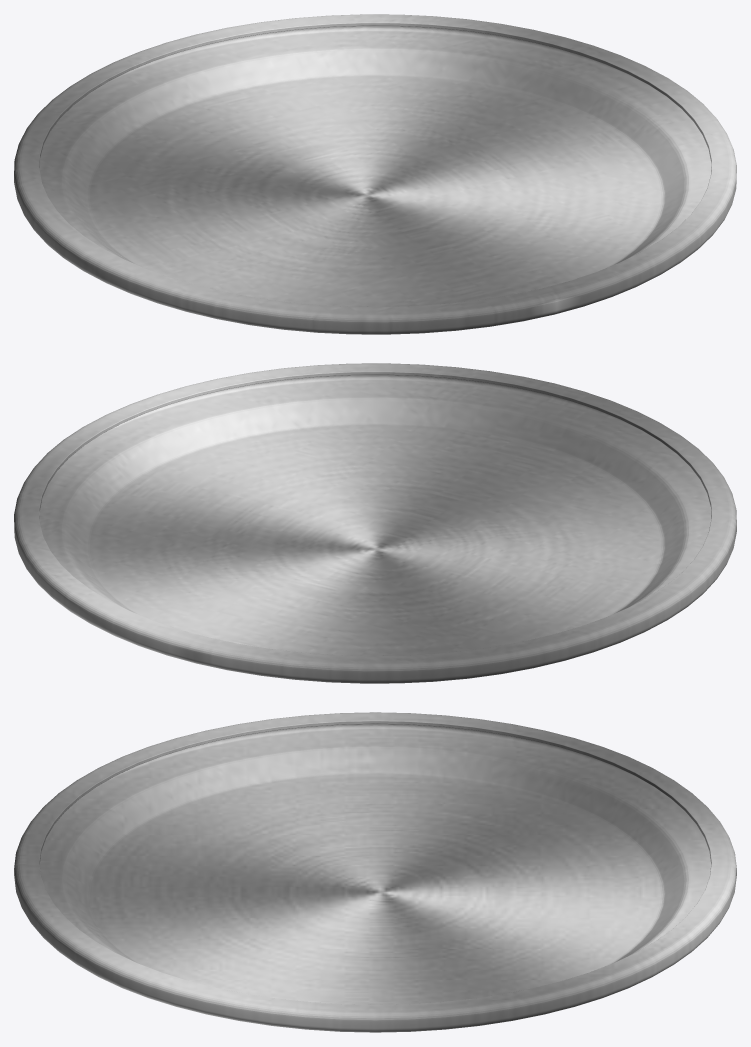
The model's file is Chanber_Metal_Pad.fbx.
The picture shows the model from 3 angles, top to bottom: view 1: azimuth 30°, elevation 25°; view 2: azimuth 150°, elevation 25°; view 3: azimuth 270°, elevation 25°; orthographic projection.
Parts seen in each view (by area): view 1: chamber9; view 2: chamber9; view 3: chamber9.
Boxes of the visible parts, <box> form: chamber9: <box>14,14,736,334</box>; chamber9: <box>14,363,736,683</box>; chamber9: <box>14,712,736,1032</box>.
Size of the model in its own units: 12.16 by 0.592 by 12.16.
